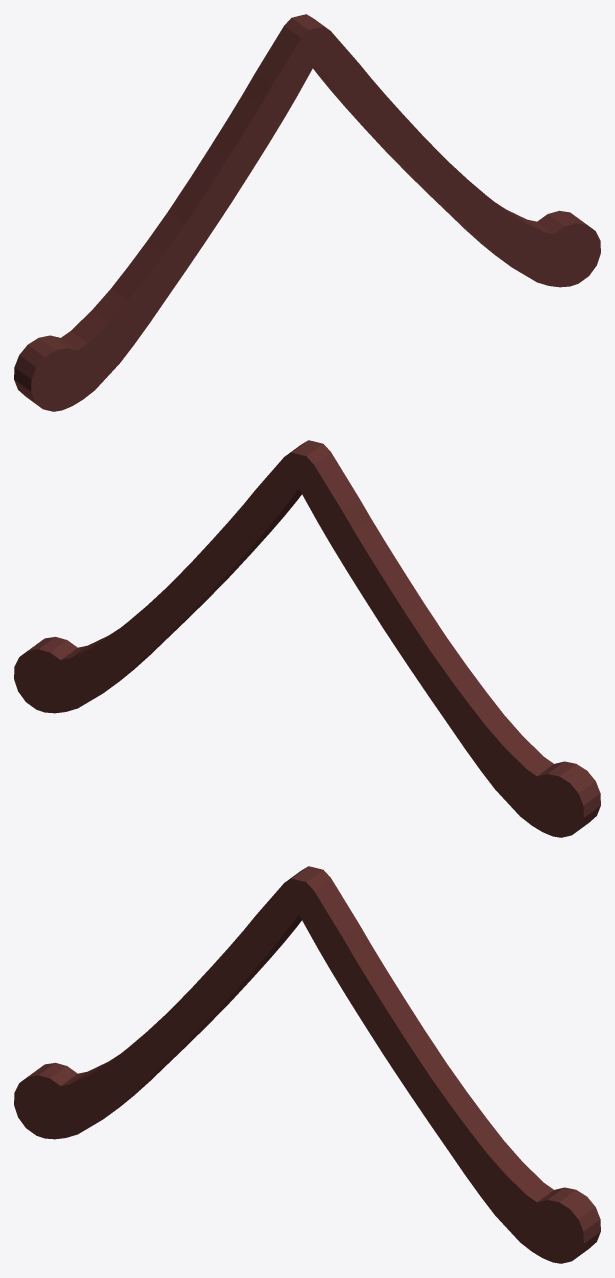
The model's file is RafeterBeam_Small.fbx.
3 views of the same model, one above another, from view 1: azimuth 30°, elevation 25°; view 2: azimuth 150°, elevation 25°; view 3: azimuth 330°, elevation 25° (orthographic).
Parts seen in each view (by area): view 1: RafeterBeam_Small; view 2: RafeterBeam_Small; view 3: RafeterBeam_Small.
Part boxes in pixels (<box>): RafeterBeam_Small: <box>14,14,600,411</box>; RafeterBeam_Small: <box>14,440,600,837</box>; RafeterBeam_Small: <box>14,866,600,1263</box>.
Size of the model in its own units: 9.61 by 0.5 by 5.16.
